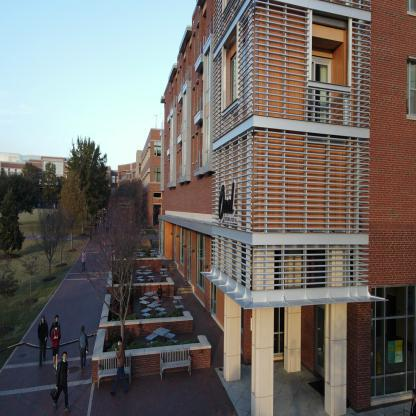Wolf Ridge: (146, 4, 415, 386)
